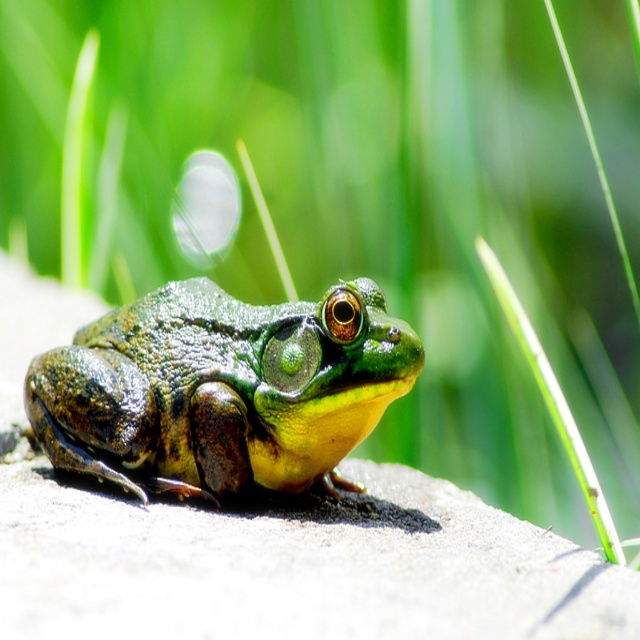Frog: (23, 277, 425, 507)
